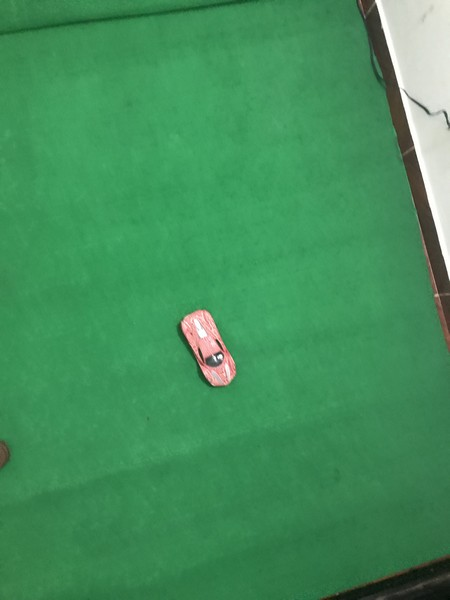RC: (177, 306, 241, 391)
